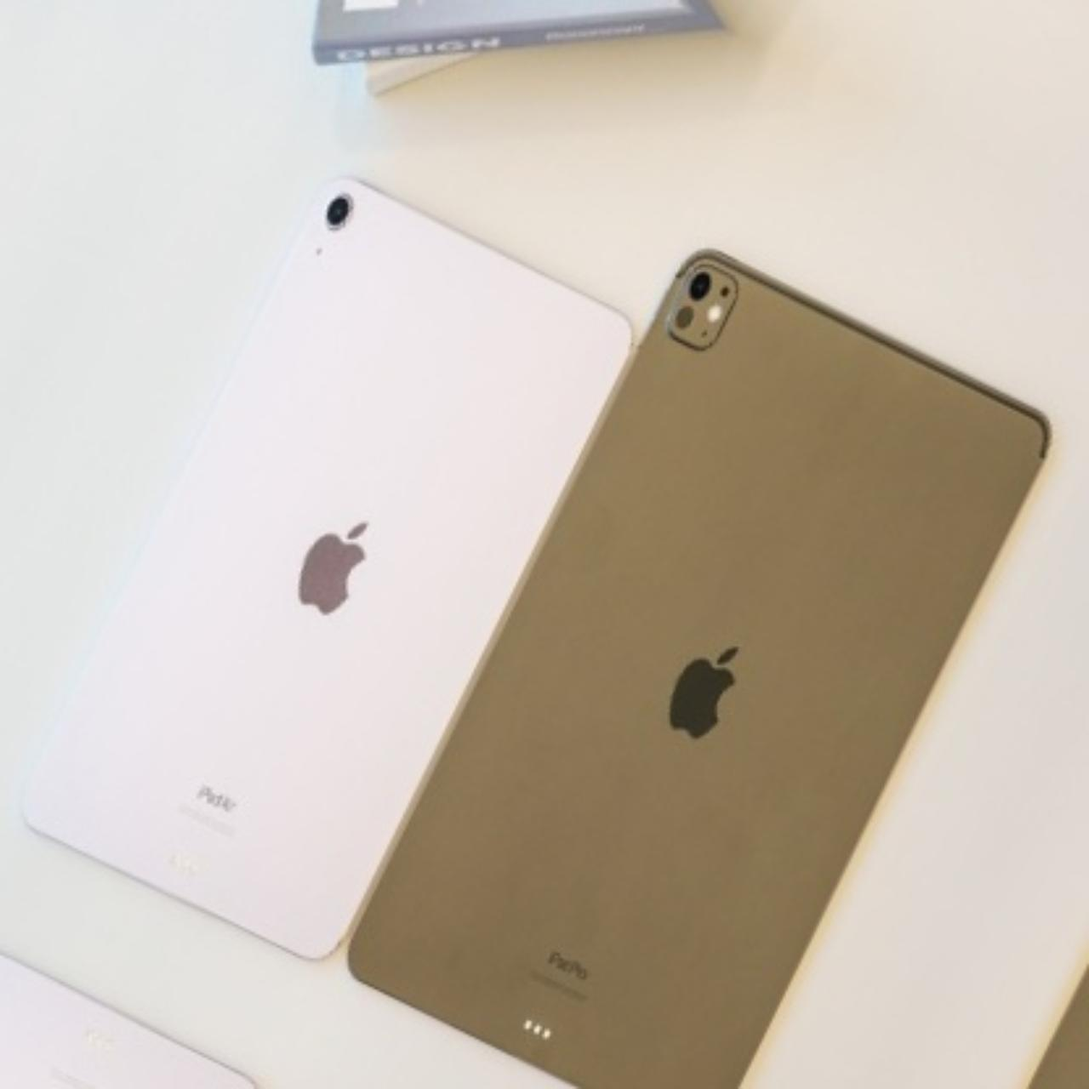Tablet_PC: (323, 225, 1077, 1089), (2, 152, 659, 989)
